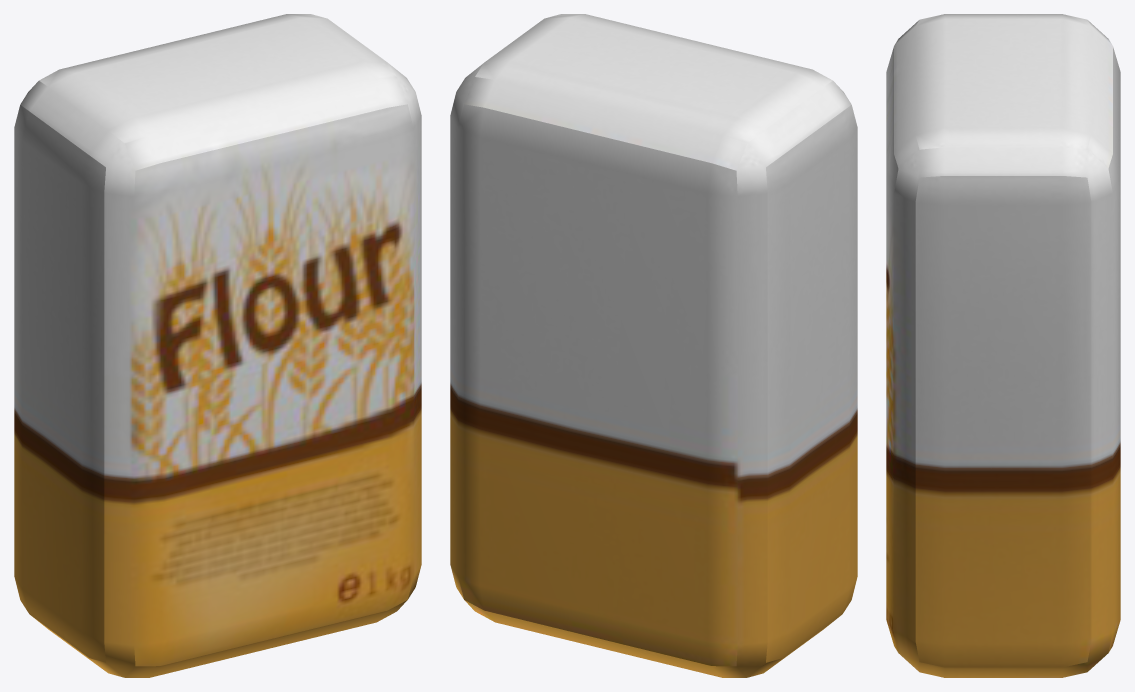
Rendered from flour.glb.
The picture shows the model from 3 angles, left to right: view 1: azimuth 30°, elevation 25°; view 2: azimuth 150°, elevation 25°; view 3: azimuth 270°, elevation 25°; orthographic projection. The views are drawn at different scales.
Parts seen in each view (by area): view 1: Flour; view 2: Flour; view 3: Flour.
Boxes of the visible parts, x1,y1,x2,y2 form: Flour: [14, 14, 421, 677]; Flour: [450, 14, 857, 677]; Flour: [886, 14, 1120, 677].
Bounding box in the file's own units: 0.1297 × 0.2083 × 0.0813.
Materials: 1 (1 with a texture image).
